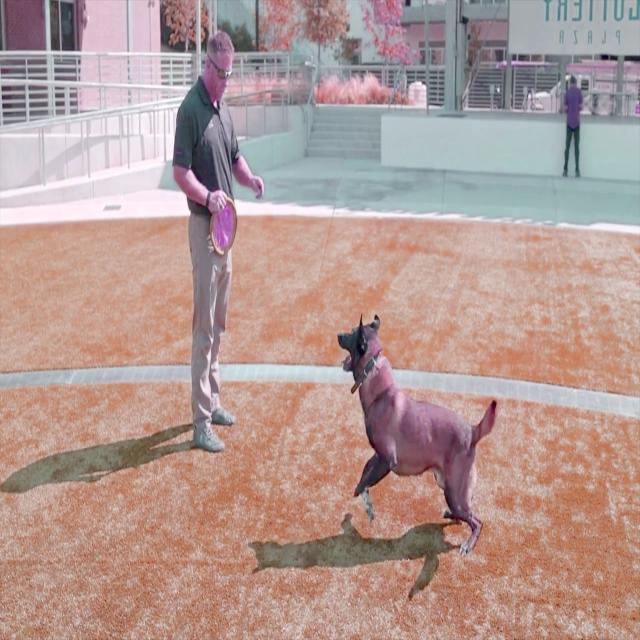Unleashed_Dog: (200, 218, 498, 558)
